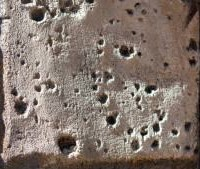Spalling: (6, 1, 199, 162)
